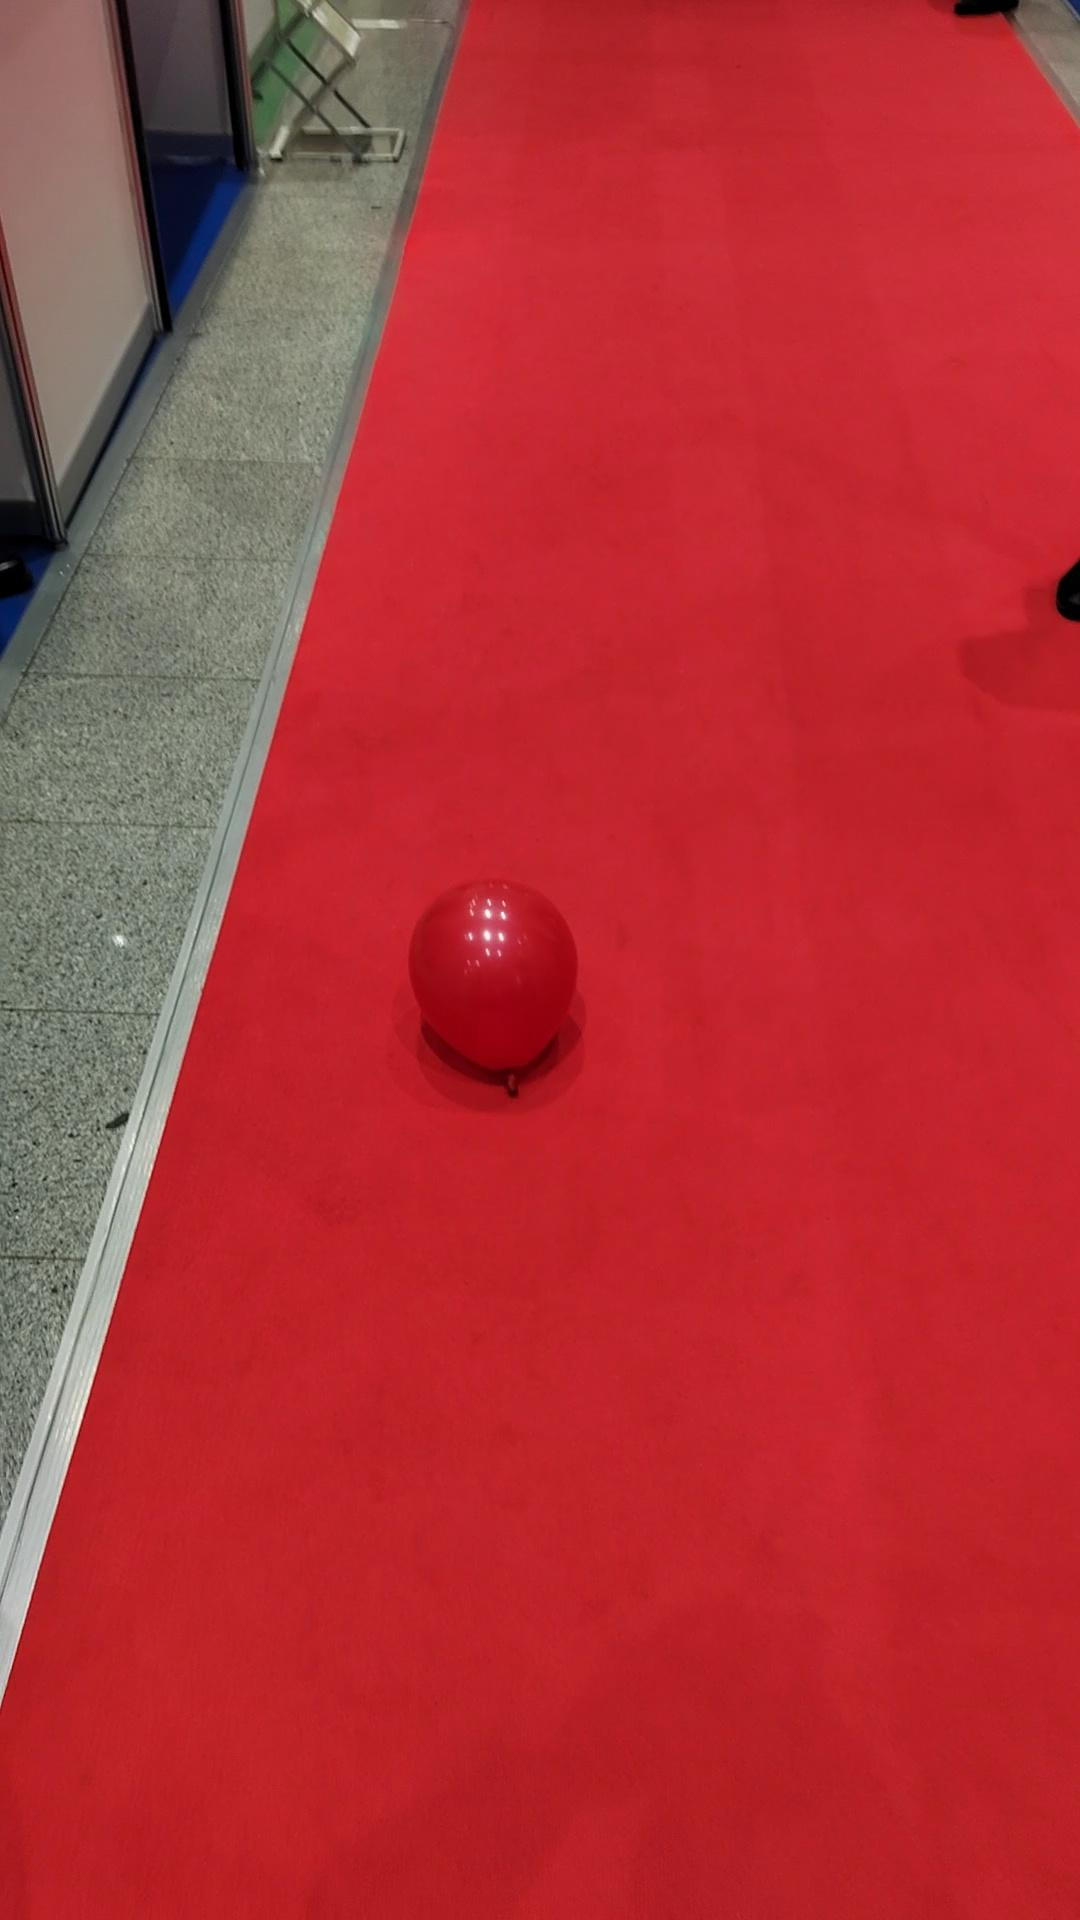red: (390, 873, 582, 1081)
